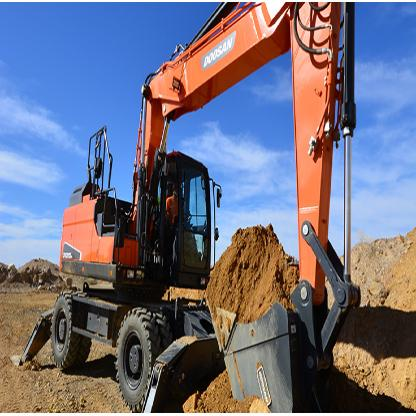excavator: (44, 8, 363, 415)
